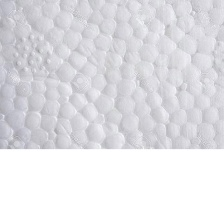foam_box: (0, 0, 224, 149)
